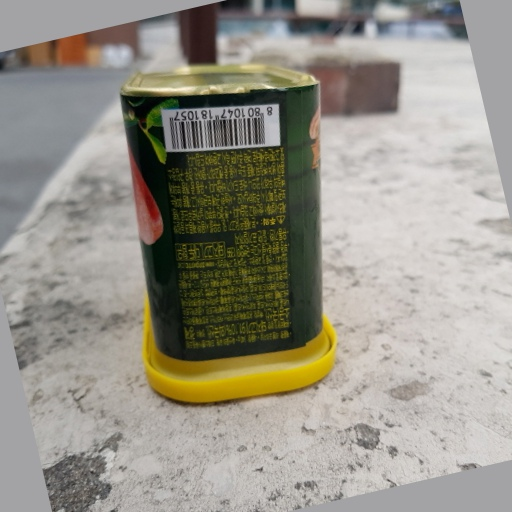Metal_2: (117, 63, 339, 401)
